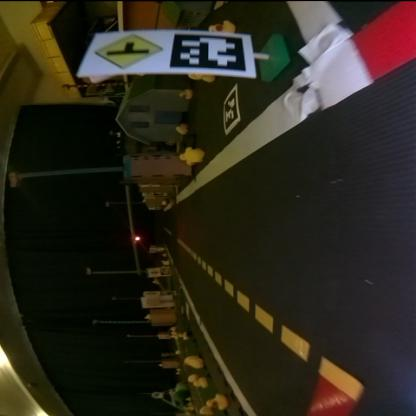Duckie: (182, 147, 206, 164), (208, 20, 234, 32), (209, 393, 228, 409), (184, 356, 203, 367), (174, 124, 186, 134), (180, 90, 192, 98)
Intersection sign: (78, 31, 164, 74)
QR code: (168, 32, 253, 74), (222, 87, 238, 133)
